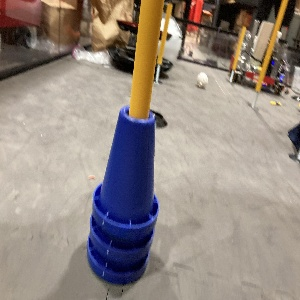Blue_3: (82, 93, 167, 291)
